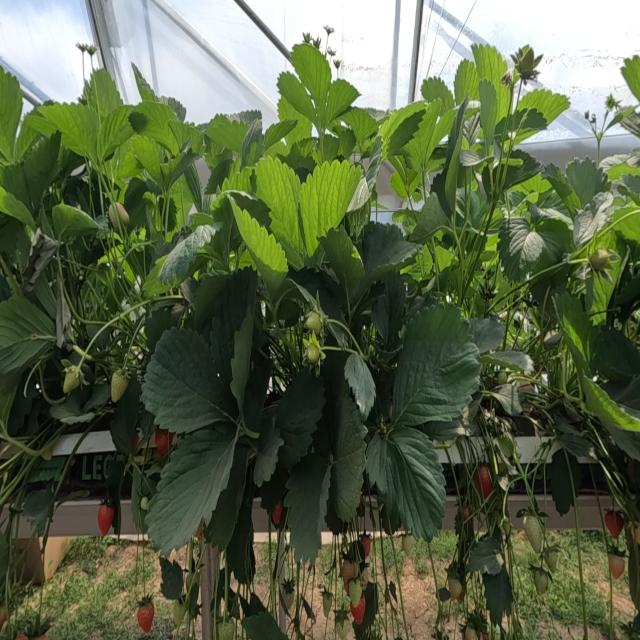Flowers: (87, 44, 96, 69), (76, 43, 92, 56), (324, 25, 334, 39), (311, 36, 321, 49), (303, 32, 313, 44), (326, 46, 336, 57), (333, 60, 341, 72)
Leaves: (146, 423, 237, 551), (393, 303, 480, 426), (142, 329, 229, 433), (367, 426, 445, 540), (209, 270, 256, 414), (0, 296, 56, 407), (300, 160, 362, 256), (256, 156, 308, 268), (230, 199, 288, 298), (268, 372, 325, 470), (329, 380, 367, 523), (284, 452, 329, 562), (553, 292, 598, 377), (361, 223, 421, 284), (159, 225, 219, 284), (499, 217, 554, 280), (403, 100, 442, 183), (320, 226, 364, 299), (40, 103, 98, 156), (21, 132, 60, 209), (378, 101, 428, 159), (372, 271, 406, 351), (135, 100, 183, 154), (472, 44, 507, 118), (291, 44, 331, 108), (347, 139, 382, 212), (253, 409, 284, 487), (594, 328, 640, 380), (547, 449, 581, 516), (0, 165, 36, 228), (277, 72, 317, 126), (110, 379, 139, 453), (96, 105, 134, 161), (573, 192, 613, 245), (345, 353, 376, 420), (409, 193, 450, 243), (22, 479, 57, 535), (0, 66, 22, 155), (516, 88, 570, 124), (566, 158, 604, 206), (482, 565, 512, 625), (205, 114, 249, 154), (52, 203, 98, 241), (342, 108, 378, 151), (468, 533, 503, 575), (327, 79, 359, 122), (469, 316, 505, 353), (421, 76, 454, 110), (454, 59, 479, 103), (485, 351, 534, 373), (264, 120, 297, 151), (491, 384, 522, 415)
Strawberries: (511, 45, 543, 84), (523, 515, 543, 552), (341, 559, 359, 596), (473, 466, 493, 499), (111, 370, 129, 402), (109, 203, 129, 231), (604, 510, 624, 538), (63, 366, 82, 395), (454, 505, 473, 534), (137, 601, 154, 633), (531, 568, 551, 594), (98, 504, 114, 536), (279, 583, 294, 616), (446, 575, 464, 602), (589, 249, 610, 271), (155, 430, 172, 456), (305, 311, 323, 335), (351, 596, 365, 625), (546, 546, 561, 573), (609, 552, 624, 578), (173, 600, 186, 629), (349, 578, 362, 607), (217, 620, 235, 639), (335, 619, 350, 639), (402, 534, 414, 557), (272, 502, 283, 527), (307, 344, 320, 365), (322, 590, 332, 617), (189, 566, 200, 589), (361, 535, 372, 557), (464, 625, 478, 639), (362, 568, 369, 589), (140, 497, 148, 510)
